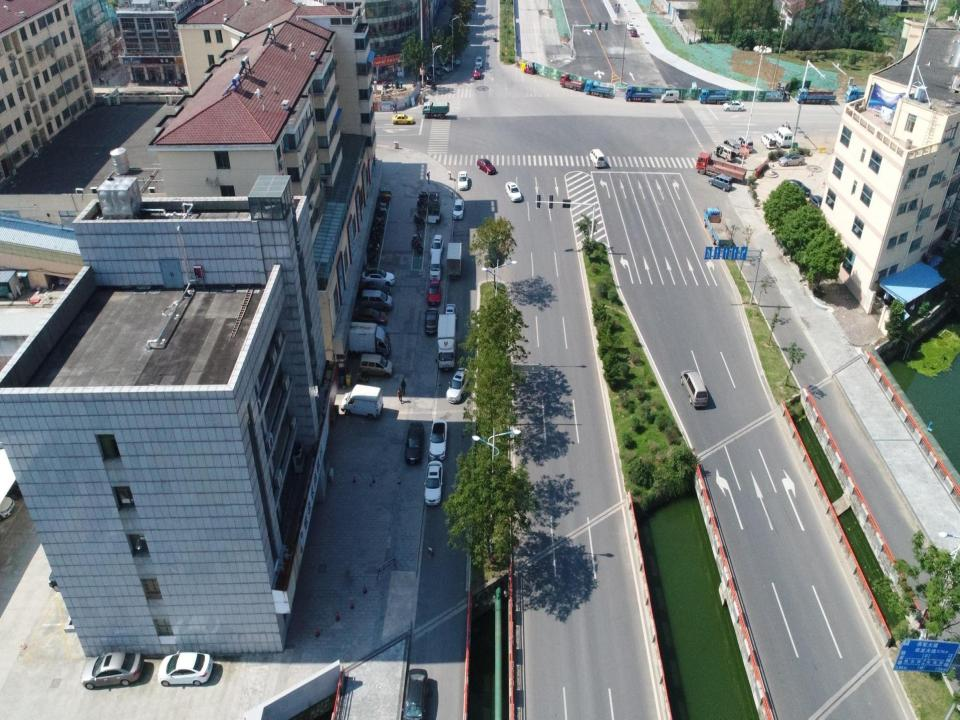bus: (682, 366, 710, 410)
car: (79, 649, 144, 691), (156, 652, 214, 686), (424, 458, 443, 509), (446, 365, 470, 404), (430, 416, 450, 460), (406, 423, 426, 464), (352, 308, 387, 324), (361, 270, 393, 286), (504, 180, 525, 204), (784, 178, 810, 197), (426, 278, 444, 304), (476, 156, 497, 176), (778, 152, 805, 166), (426, 307, 438, 338), (392, 109, 413, 125), (456, 168, 471, 190), (722, 98, 745, 112), (437, 58, 453, 76), (48, 570, 60, 594), (807, 195, 822, 211), (427, 69, 444, 83), (446, 304, 456, 323), (433, 233, 443, 249), (450, 53, 460, 65), (471, 70, 484, 78), (475, 57, 482, 69), (630, 27, 637, 37), (626, 22, 634, 30)
truck: (694, 154, 749, 185), (433, 313, 460, 368), (702, 204, 734, 250), (346, 322, 391, 354), (444, 241, 464, 279), (796, 90, 835, 108), (622, 84, 654, 104), (584, 79, 612, 101), (696, 86, 730, 104), (423, 99, 451, 120), (557, 69, 583, 91), (845, 86, 869, 102)
van: (340, 383, 384, 422), (356, 355, 395, 377), (365, 289, 392, 311), (774, 126, 796, 149), (706, 173, 734, 190), (427, 190, 441, 223), (430, 248, 443, 282), (714, 146, 740, 162), (588, 148, 607, 169), (454, 193, 465, 221), (660, 88, 682, 102), (724, 137, 742, 153), (738, 132, 753, 150), (762, 130, 776, 148)
